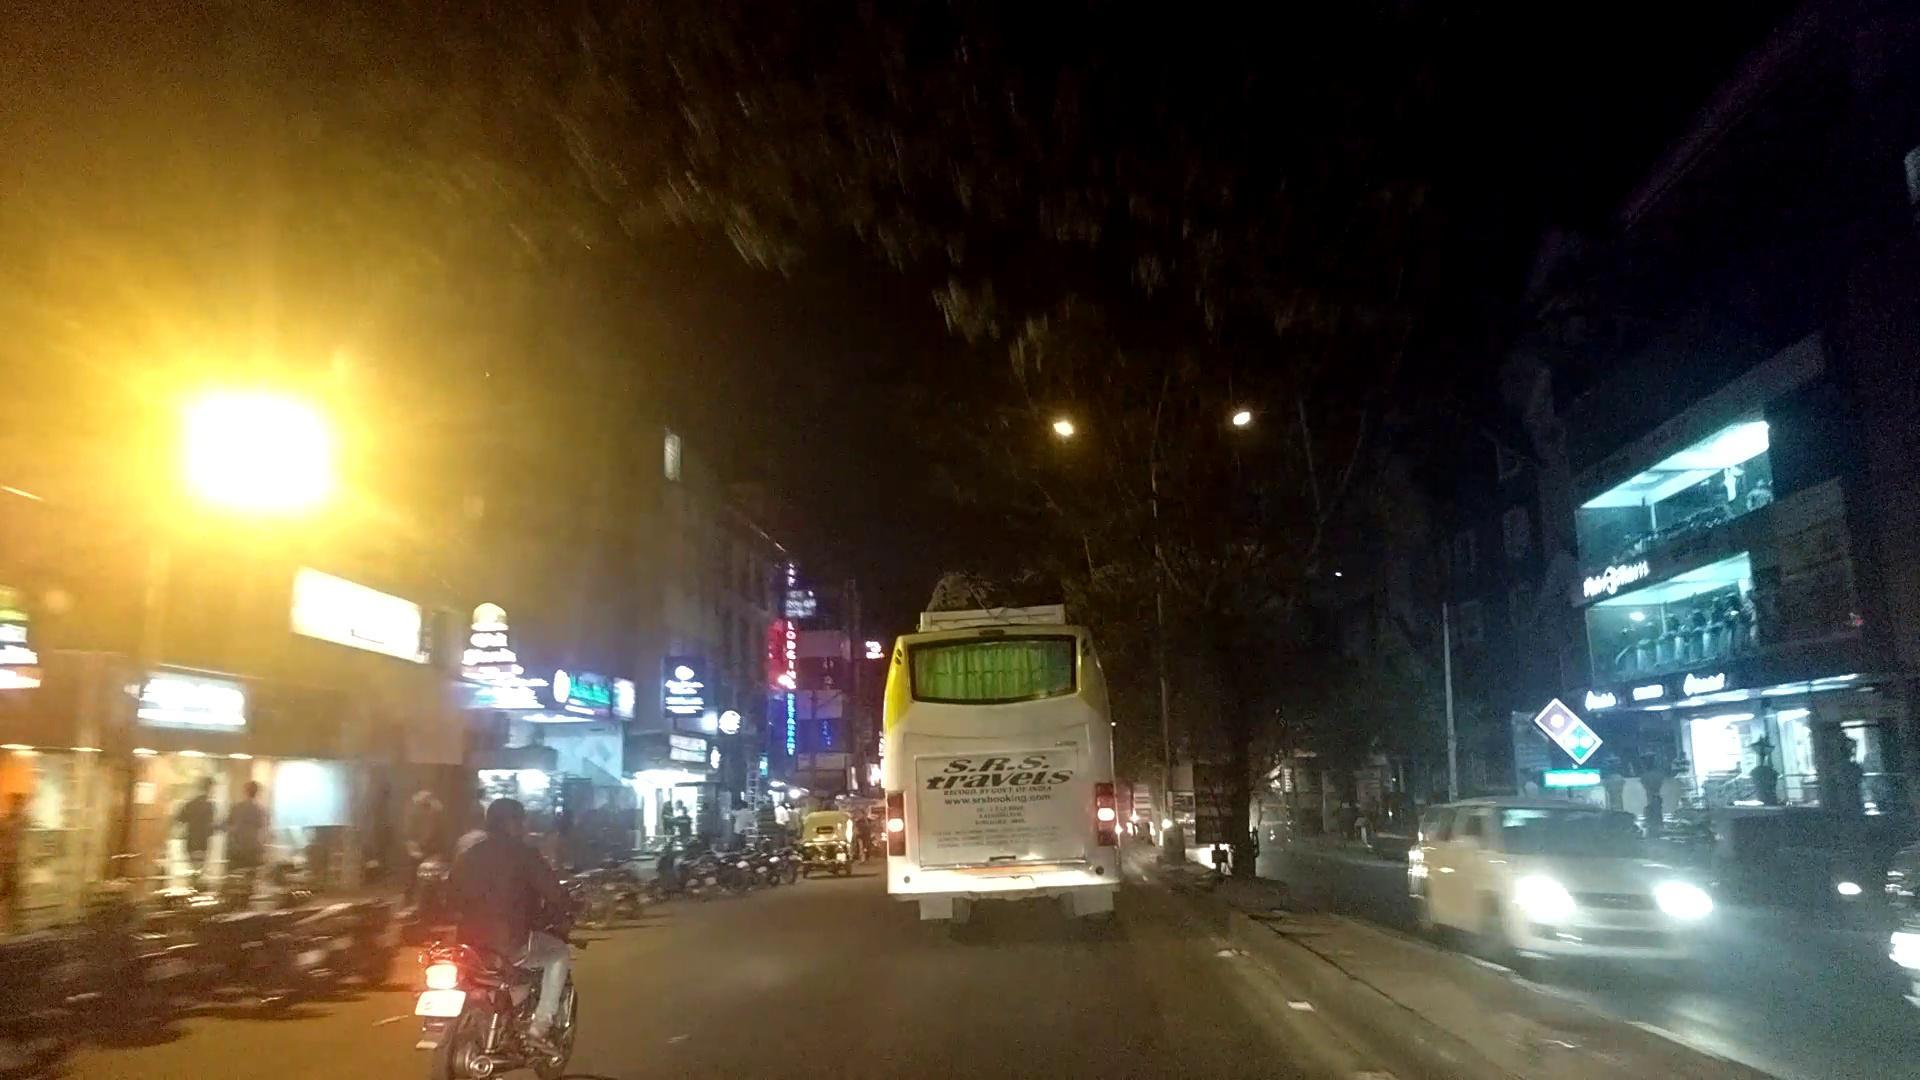on: (131, 262, 447, 683)
